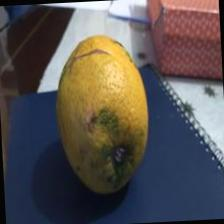Orange Rotten: (47, 27, 169, 215)
